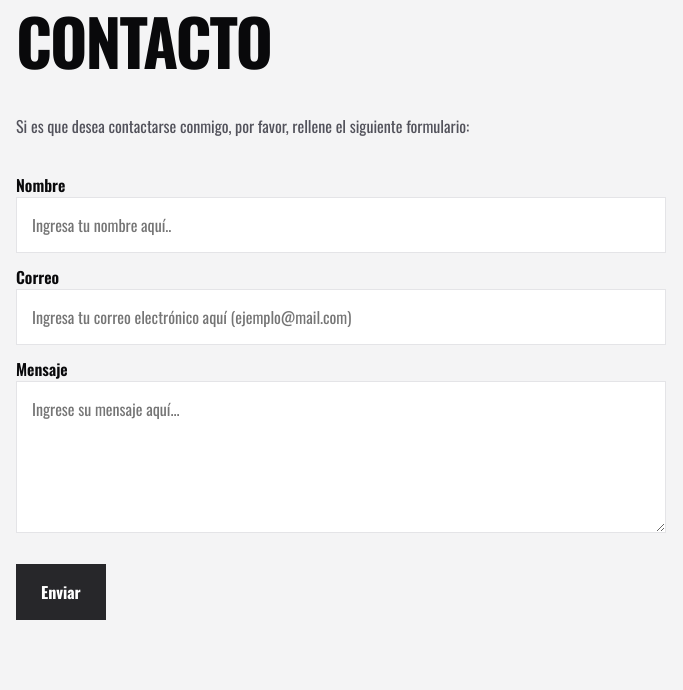
Test: Componente de Contacto › Debe mostrar error si es que no se ingresa nada en los campos obligatorios.
Type "Pedro Perez" into the field labelled "Nombre". click: (341, 225)
box: [16,197,666,253]
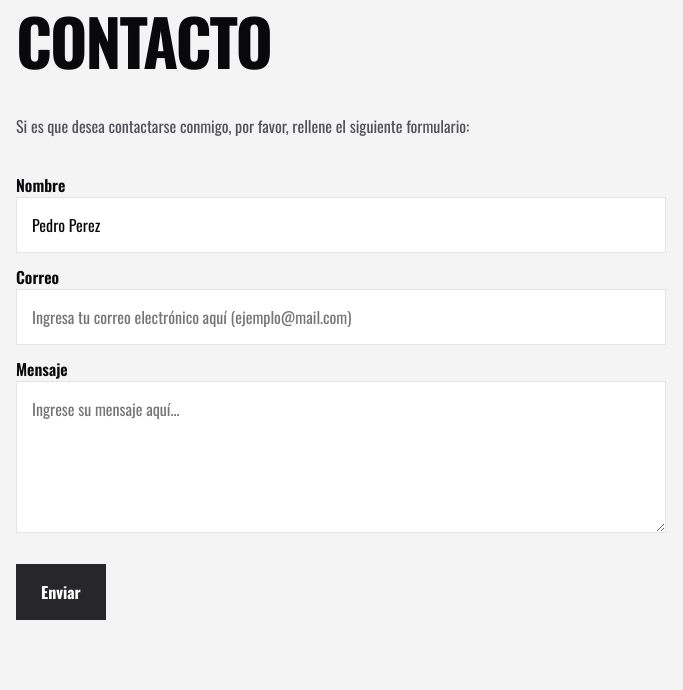
Click the button "Enviar". click: (61, 592)
box: [16,564,106,620]
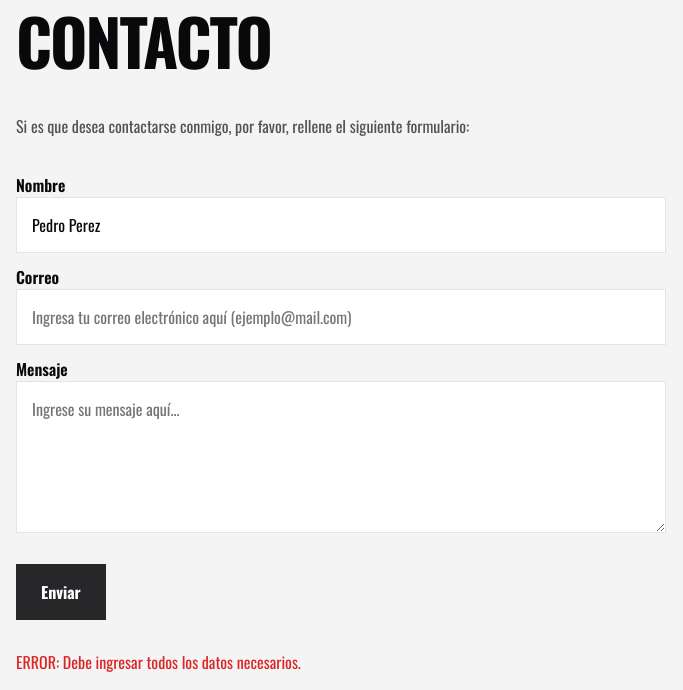
Result: the message reads "ERROR: Debe ingresar todos los datos necesarios." at [16,650,301,674]
